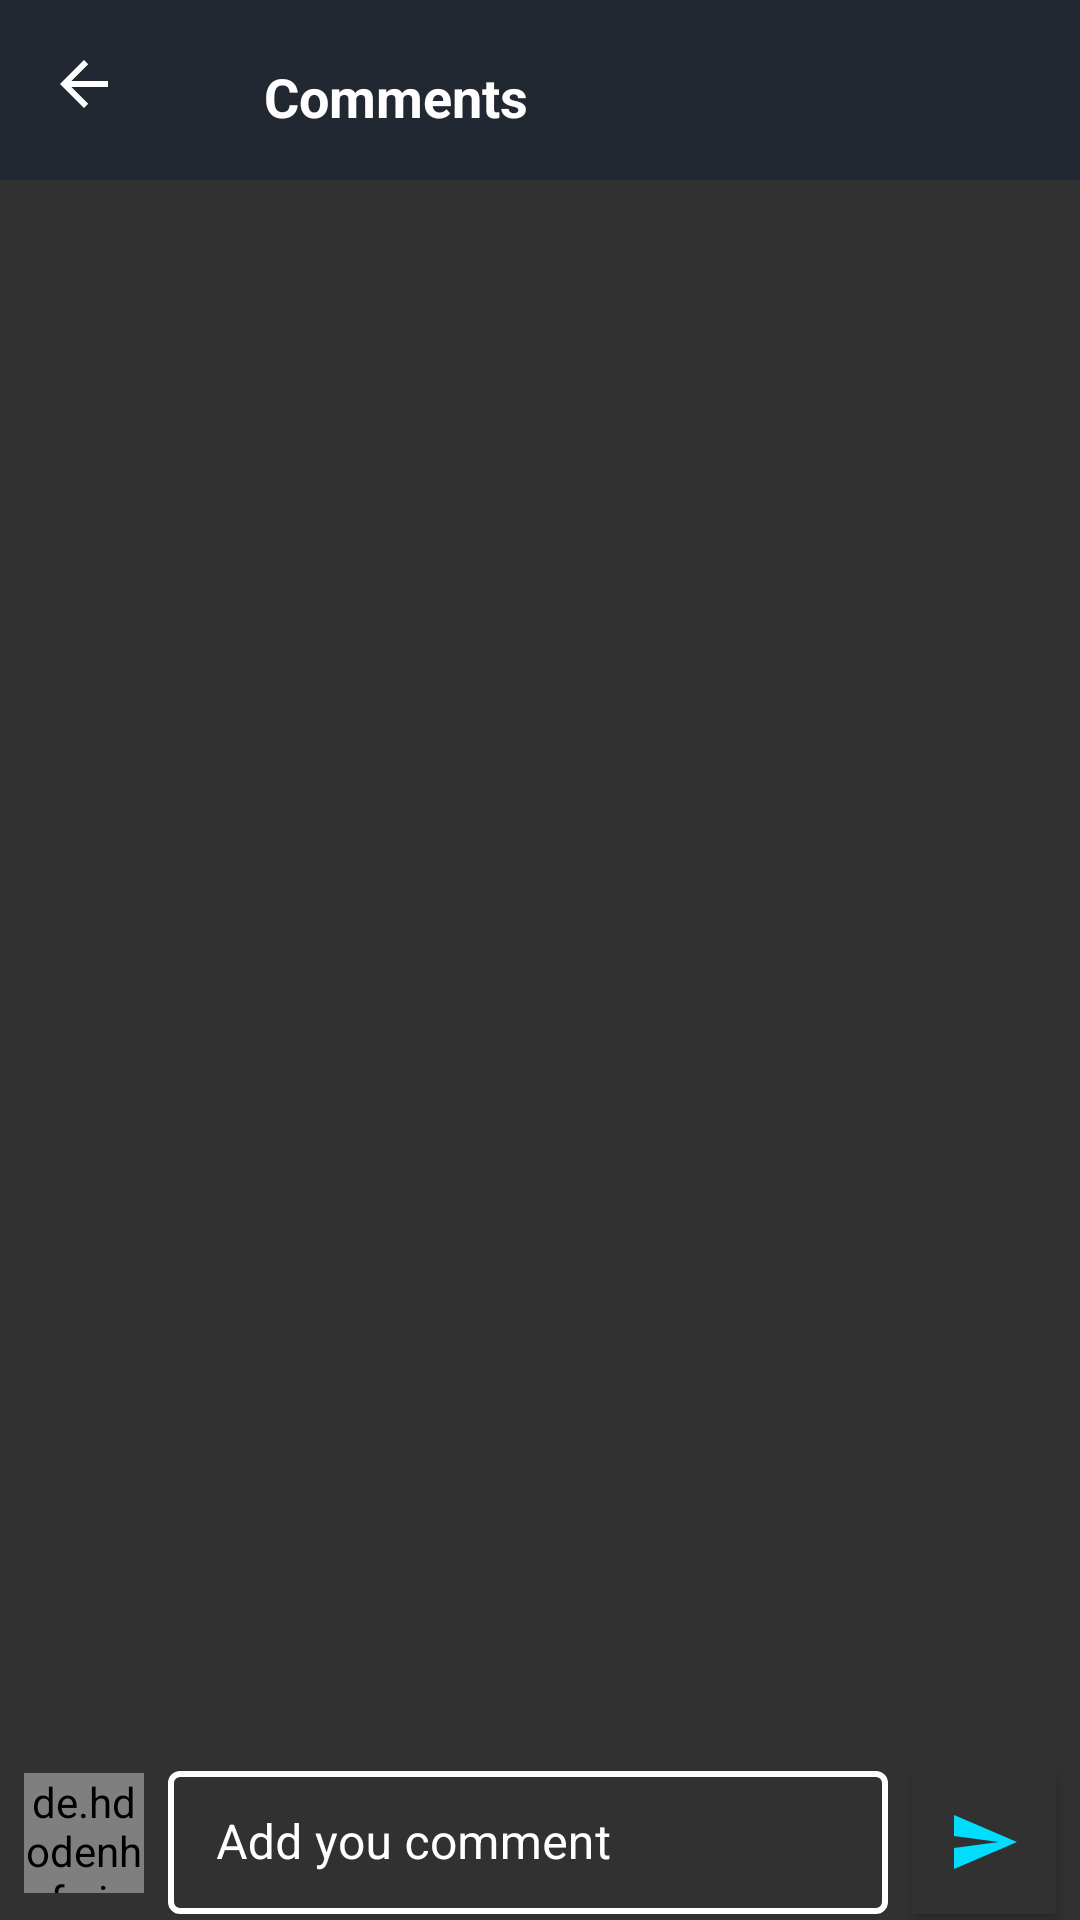

Icons on this 1080px×1920px Android screen, each with the point to tap as (x=x, y=y):
send: (x=985, y=1842)
